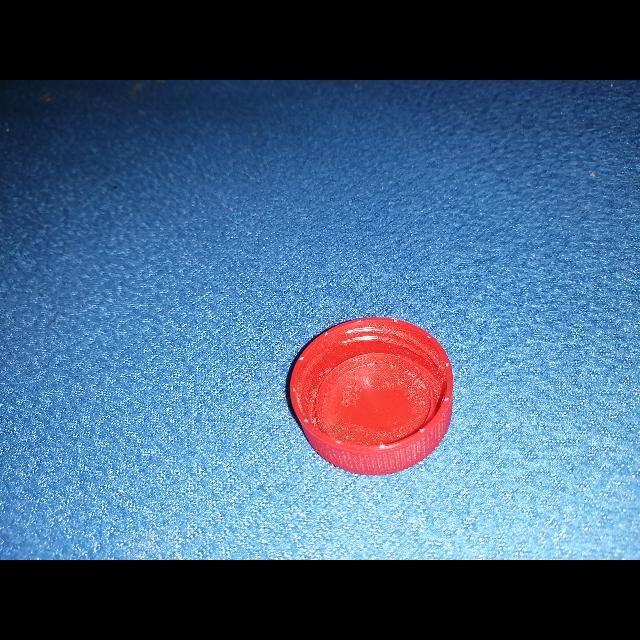plastic_bottle_cap: (288, 316, 454, 476)
